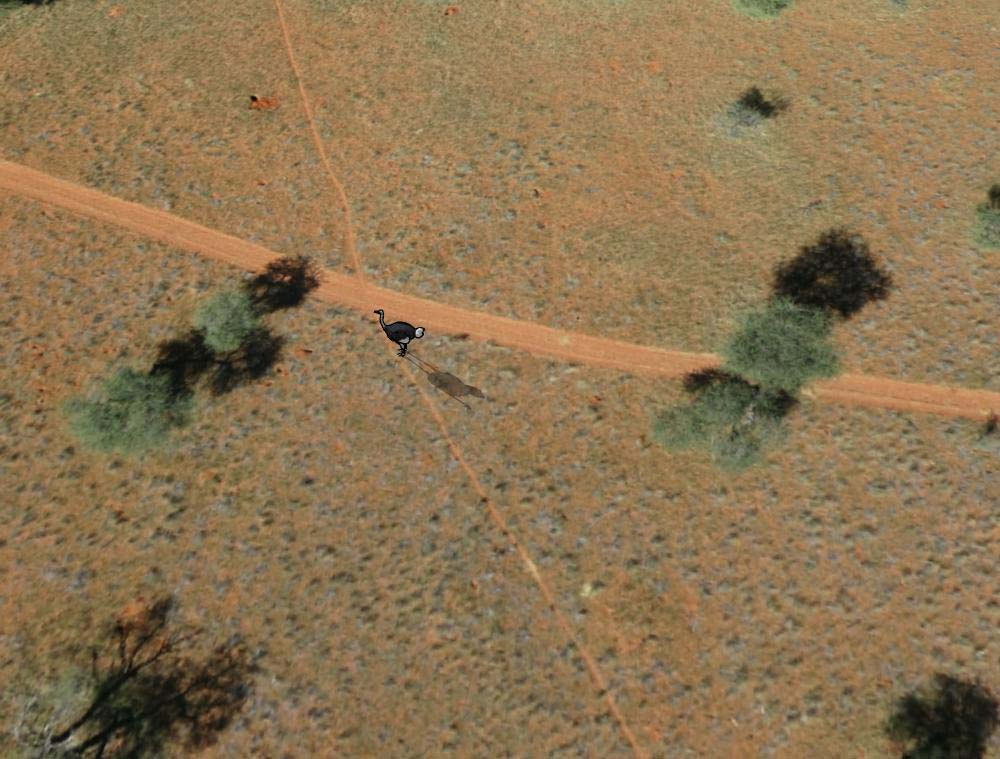springbok: (372, 306, 426, 363)
